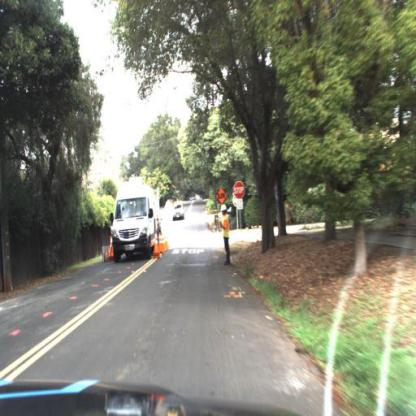car: (107, 179, 166, 263), (172, 201, 188, 223), (173, 201, 187, 224)
pedestrian: (211, 200, 237, 268)
